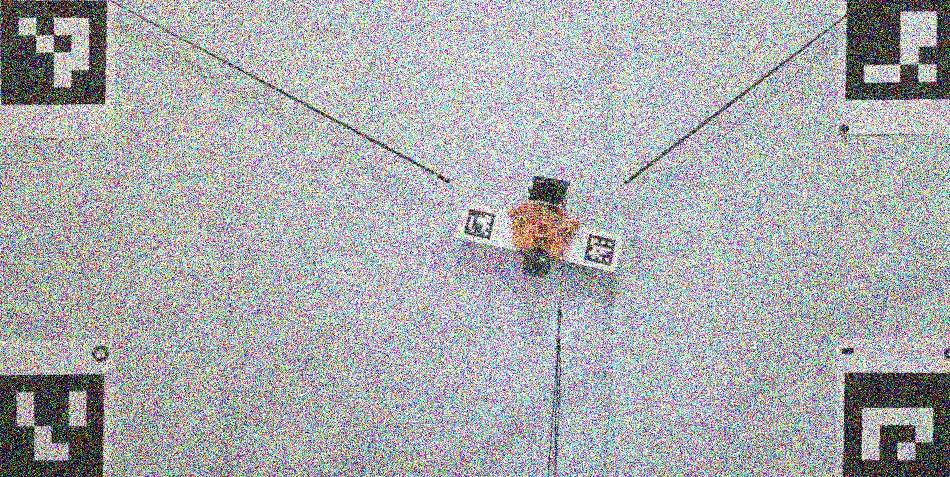robot: (508, 175, 581, 277)
